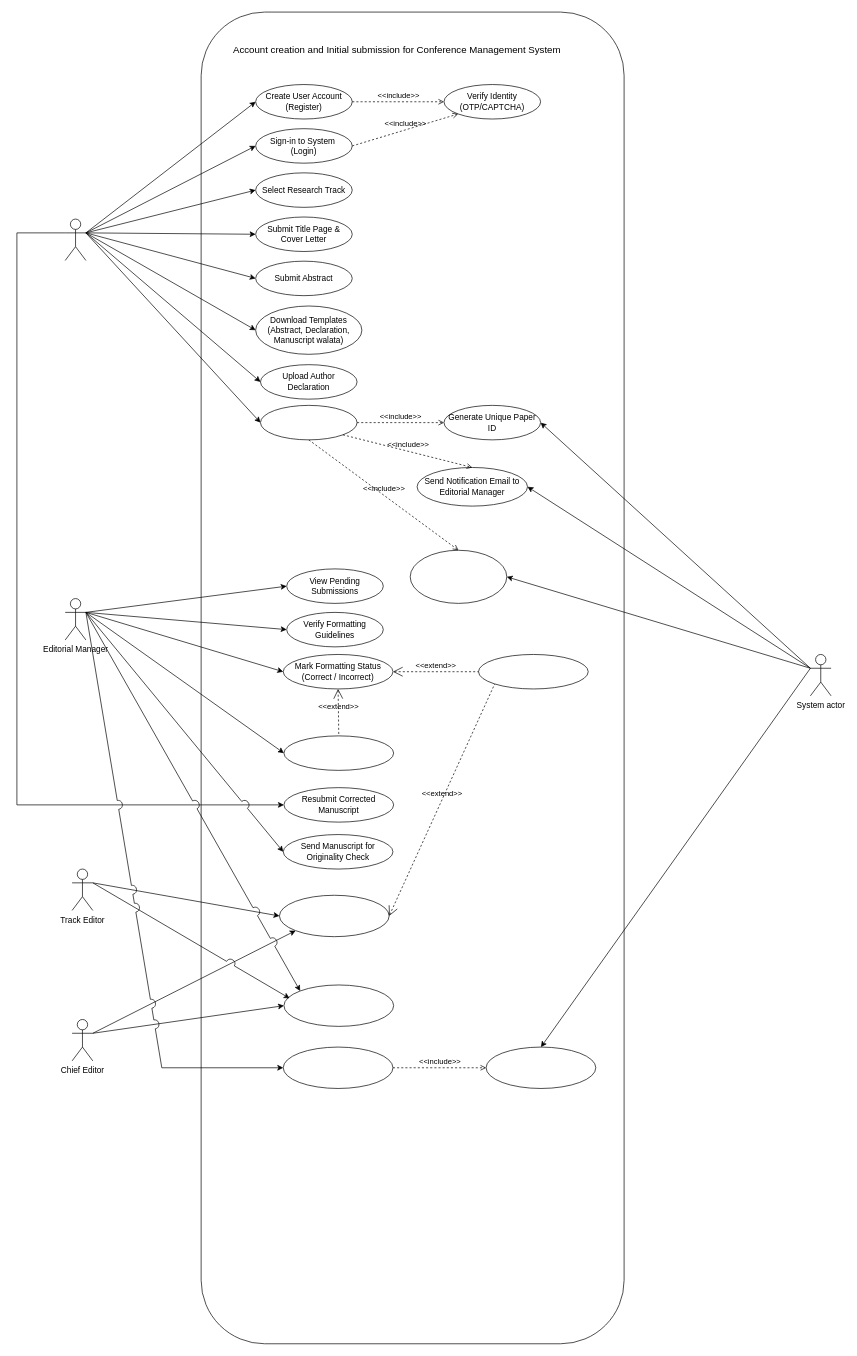
The diagram is 857 pixels wide and 1356 high, and some of its shapes have lost their labels. The shapes that lost their labels are listed below. From the top down, each one's box as (x1, y1, x2, y2) in pixels, then its label:
(65, 218, 86, 260): Corresponding Author
(260, 405, 357, 440): Upload Manuscript
(410, 550, 507, 603): Send Confirmation Email to Corresponding author and co-authors
(478, 654, 588, 689): Reject the Manuscript
(283, 735, 394, 770): Input Feedback Comments
(279, 895, 389, 937): Verify Manuscript Originality (Approve / Reject)
(283, 984, 394, 1026): Input Suggested Reviewers
(283, 1046, 393, 1088): View Suggested Reviewers
(485, 1046, 596, 1088): Send Reviewer Invitations
